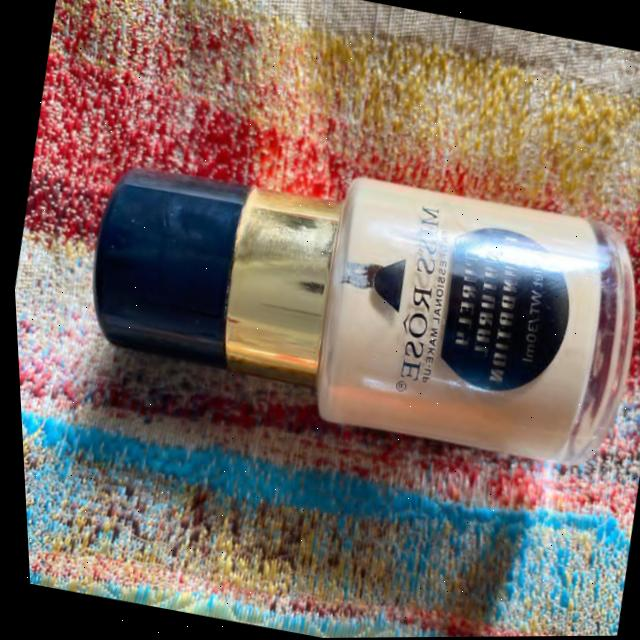foundation: (68, 125, 640, 512)
